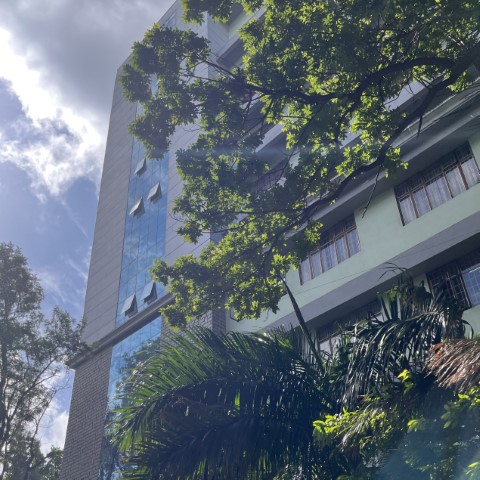Central Block: (106, 7, 471, 323)
